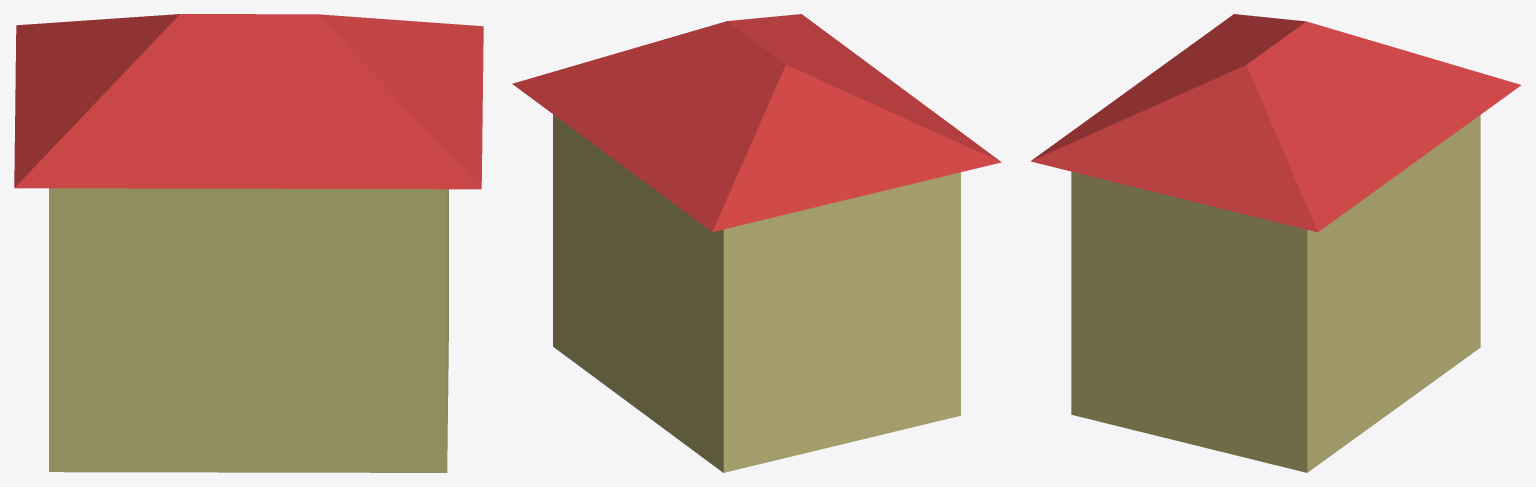
3 views of the same model, side by side, from view 1: azimuth 30°, elevation 25°; view 2: azimuth 150°, elevation 25°; view 3: azimuth 270°, elevation 25° (orthographic). The views are drawn at different scales.
Parts seen in each view (by area): view 1: group_5, group_3, group_4; view 2: group_5, group_3, group_4; view 3: group_5, group_3, group_4.
Part boxes in pixels (<box>): group_5: <box>49,188,448,472</box>; group_3: <box>14,14,483,189</box>; group_4: <box>14,23,481,189</box>; group_5: <box>553,114,960,472</box>; group_3: <box>512,14,1000,231</box>; group_4: <box>513,14,1001,231</box>; group_5: <box>1071,115,1480,472</box>; group_3: <box>1030,15,1490,232</box>; group_4: <box>1031,14,1521,231</box>.
Size of the model in its own units: 17.25 by 16.4 by 12.45.
